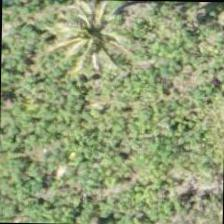Kelapa_Sawit: (54, 0, 146, 81)
